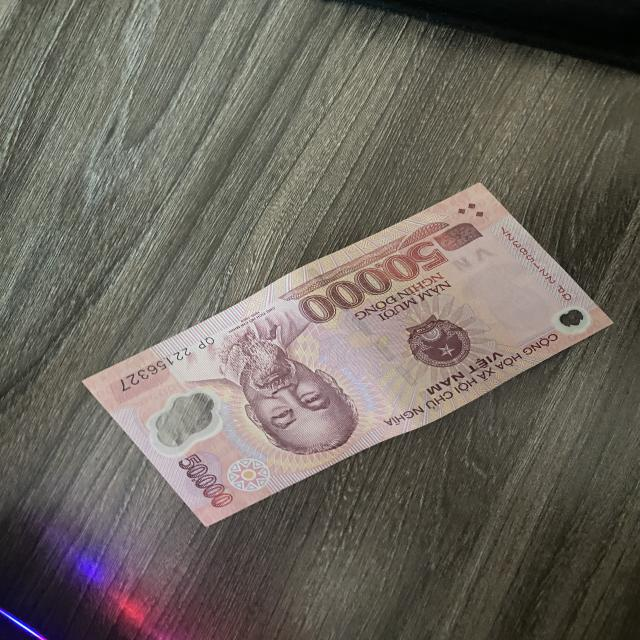50 000 VND: (79, 182, 614, 527)
